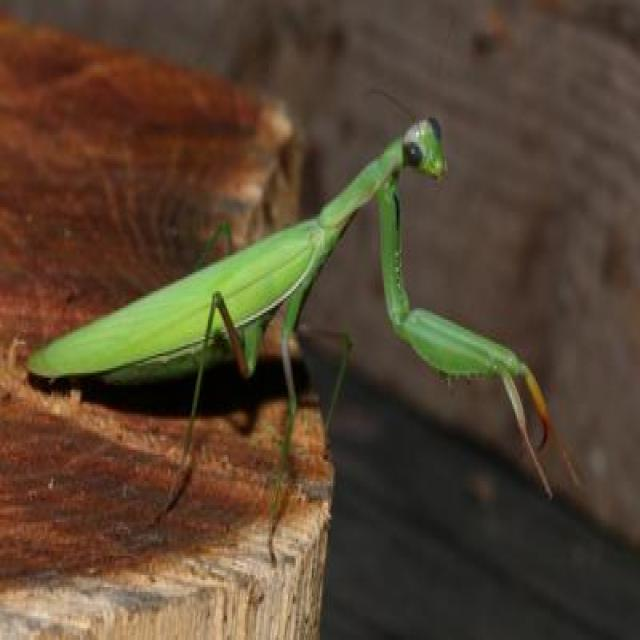antennae: (366, 91, 418, 122)
body: (86, 119, 448, 390)
insect: (23, 80, 573, 566)
legs: (378, 177, 575, 482), (377, 176, 550, 498), (149, 290, 268, 514), (259, 267, 320, 556), (192, 223, 234, 276)
mouthpart: (431, 156, 447, 182)
wings: (27, 220, 320, 382)
